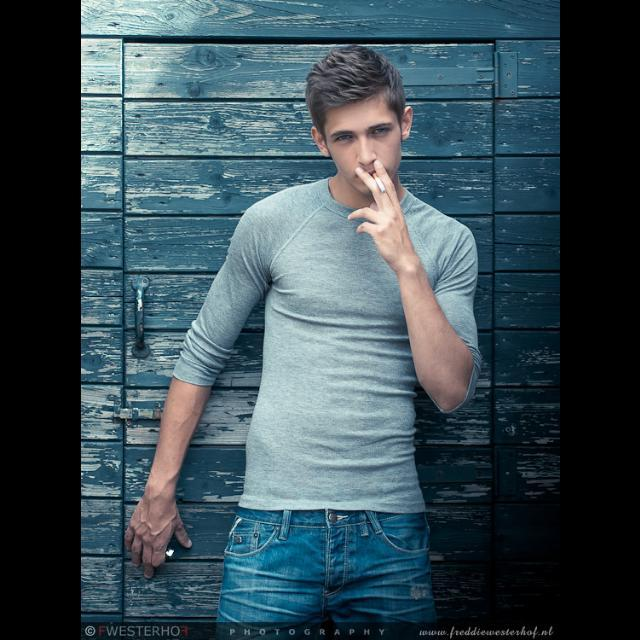rokok: (369, 169, 385, 195)
